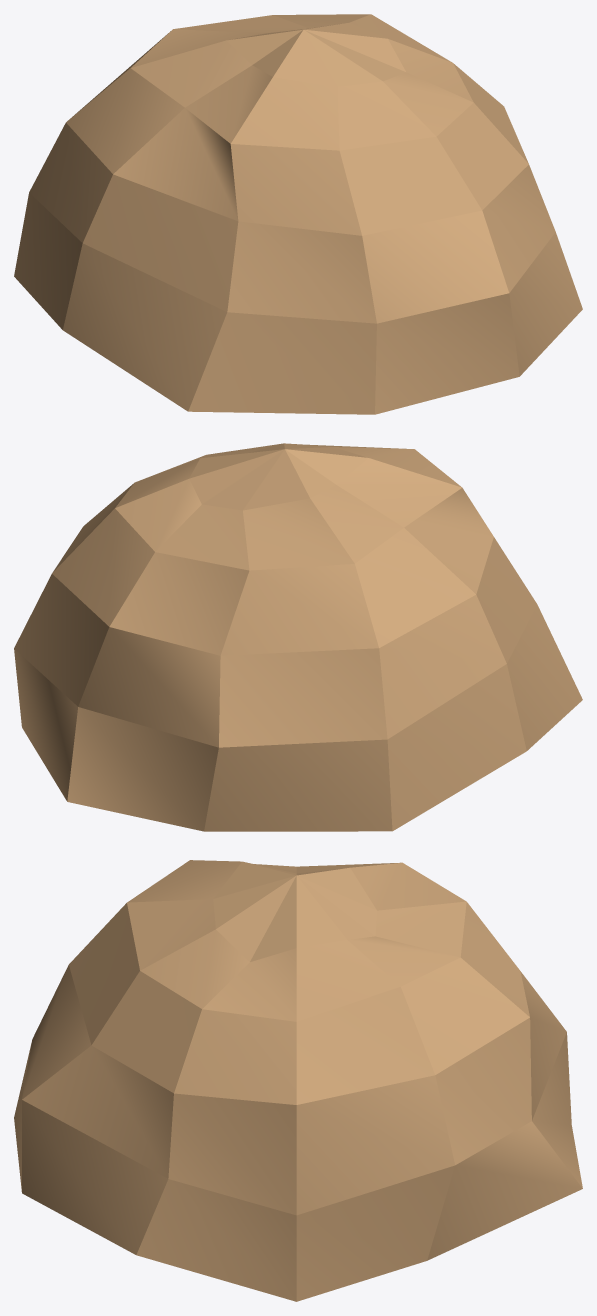
File: pivot.fbx
3 renders of one model, top to bottom at view 1: azimuth 30°, elevation 25°; view 2: azimuth 150°, elevation 25°; view 3: azimuth 270°, elevation 25°, orthographic. The views are drawn at different scales.
Parts seen in each view (by area): view 1: pivot; view 2: pivot; view 3: pivot.
Part boxes in pixels (<box>): pivot: <box>14,14,582,414</box>; pivot: <box>14,443,582,831</box>; pivot: <box>14,860,582,1301</box>.
Bounding box in the file's own units: 8.93 × 5.52 × 9.13.
